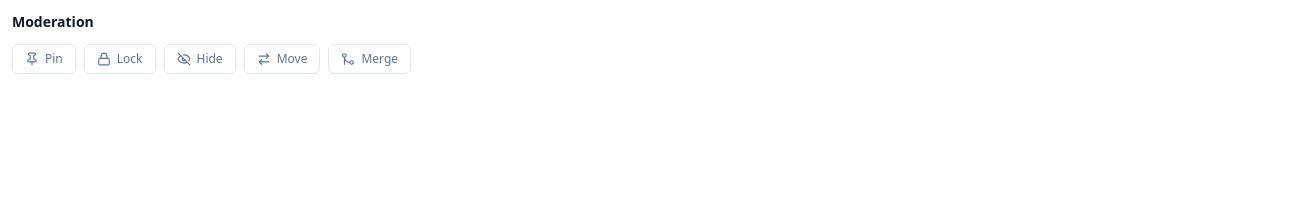
Test: ModerationActions › hides move panel after move
Click the button with test id "action-move-toggle".
click(282, 59)  # box [244,44,320,74]
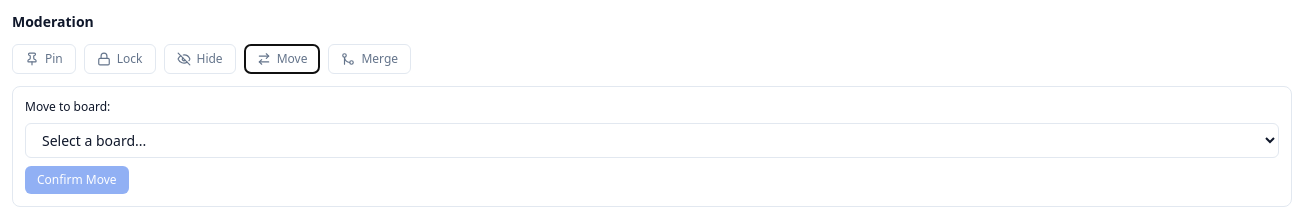
Select "General" in the dropdown with test id "move-board-select" at [652, 140], box [25,123,1279,158]
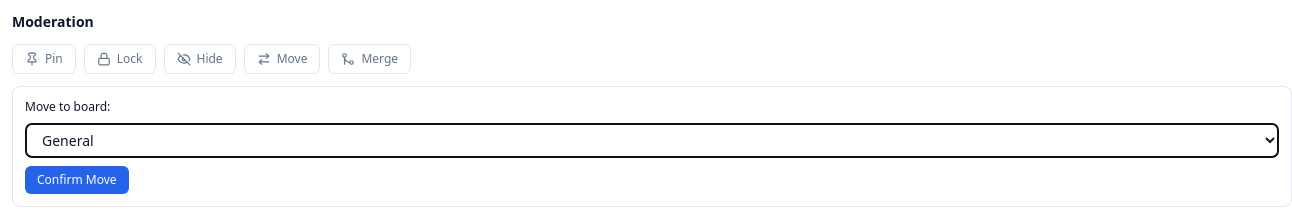
Click the button with test id "move-confirm-btn".
click(77, 180)  # box [25,166,129,194]
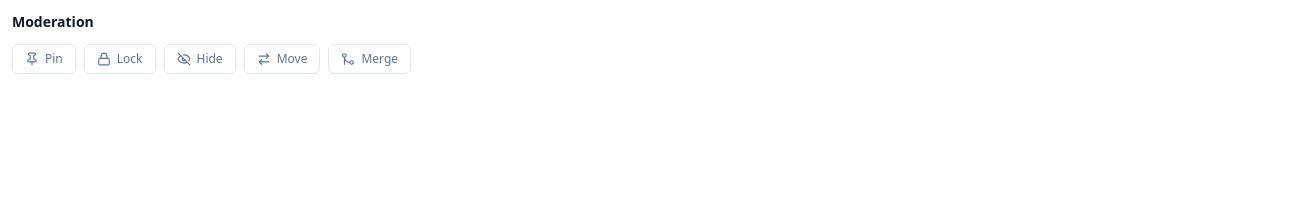
Now the element with test id "move-panel" is gone
